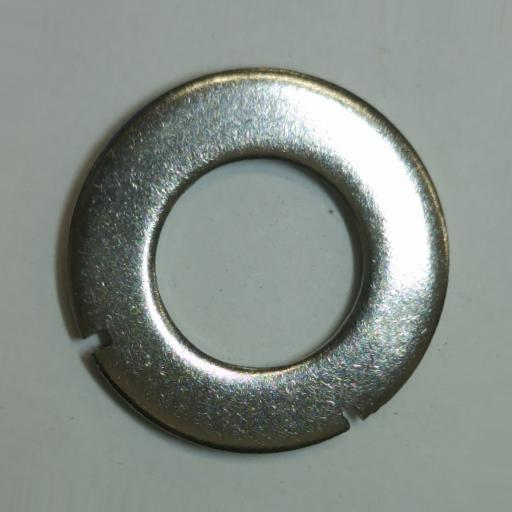burr: (81, 327, 114, 357), (339, 405, 365, 429)
